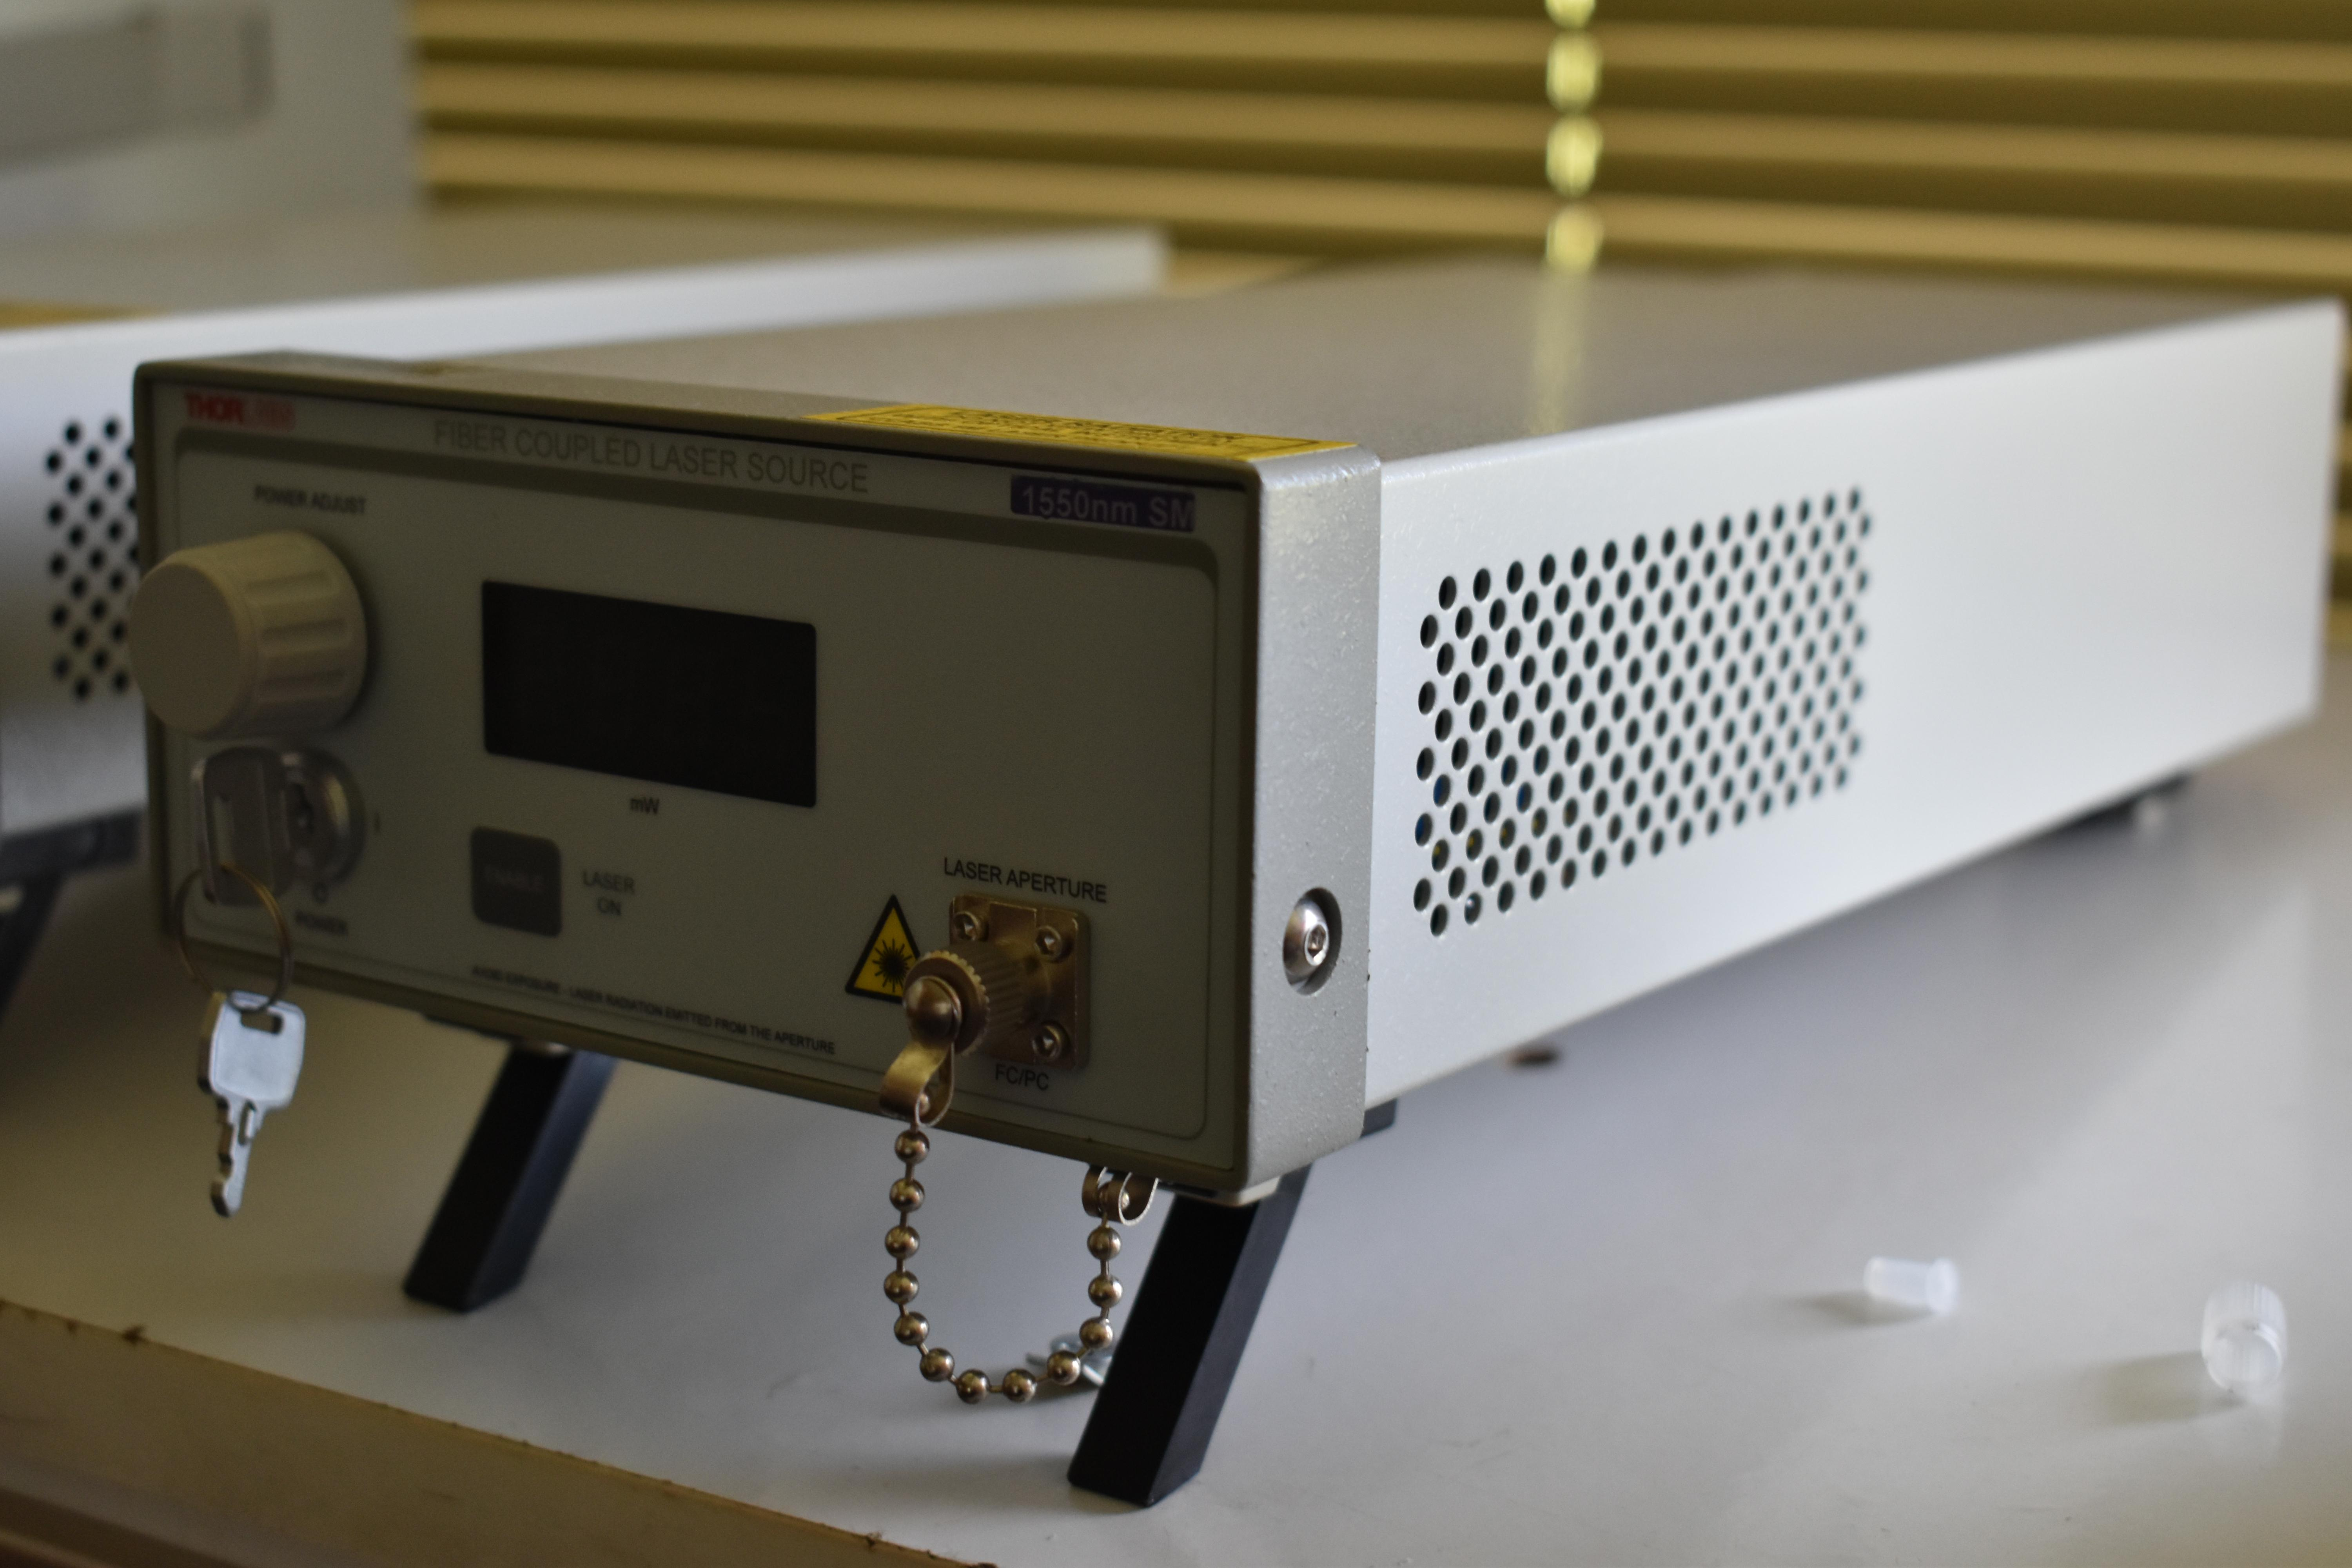laser: (108, 241, 2352, 1521)
